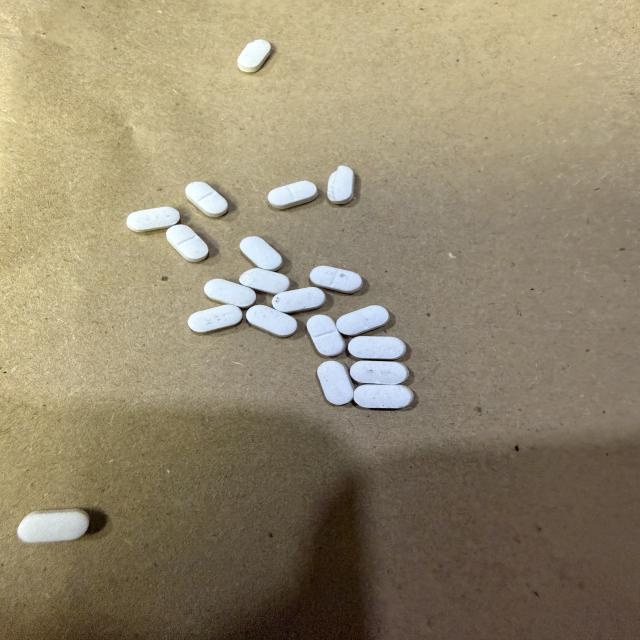pill: (17, 509, 89, 542), (246, 305, 297, 337), (317, 361, 354, 405), (307, 315, 345, 356), (167, 225, 208, 262), (188, 305, 242, 333), (337, 306, 389, 335), (205, 279, 255, 308), (186, 182, 227, 217), (310, 266, 362, 293), (240, 237, 282, 270), (272, 287, 325, 313), (268, 181, 317, 209), (354, 385, 413, 408), (350, 361, 409, 384), (348, 336, 406, 359), (127, 207, 179, 232), (239, 268, 289, 294), (327, 166, 354, 204), (238, 40, 270, 72)
